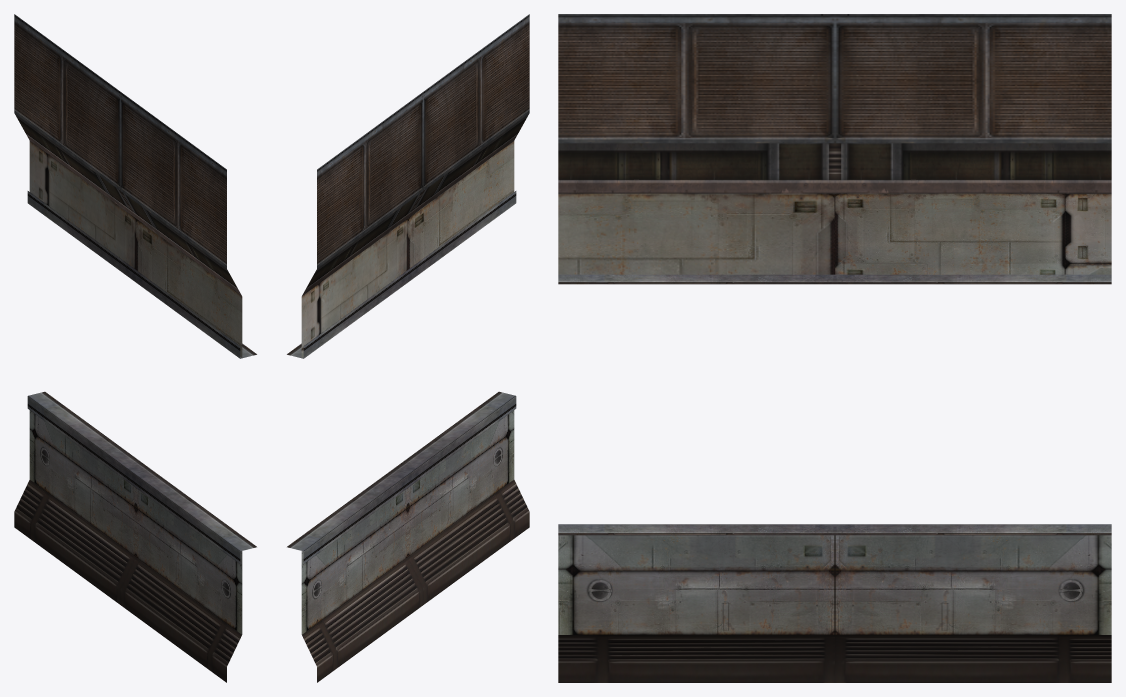
The model's file is Wall_High_new01.fbx.
3 views of the same model, side by side, from view 1: azimuth 30°, elevation 25°; view 2: azimuth 150°, elevation 25°; view 3: azimuth 270°, elevation 25° (orthographic). The views are drawn at different scales.
Parts seen in each view (by area): view 1: Wall_High_new01; view 2: Wall_High_new01; view 3: Wall_High_new01.
Part boxes in pixels (box(x1,y1,x2,y2)): Wall_High_new01: box(14, 14, 256, 682); Wall_High_new01: box(287, 14, 529, 682); Wall_High_new01: box(558, 14, 1111, 682).
Bounding box in the file's own units: 25 × 400 × 300.
